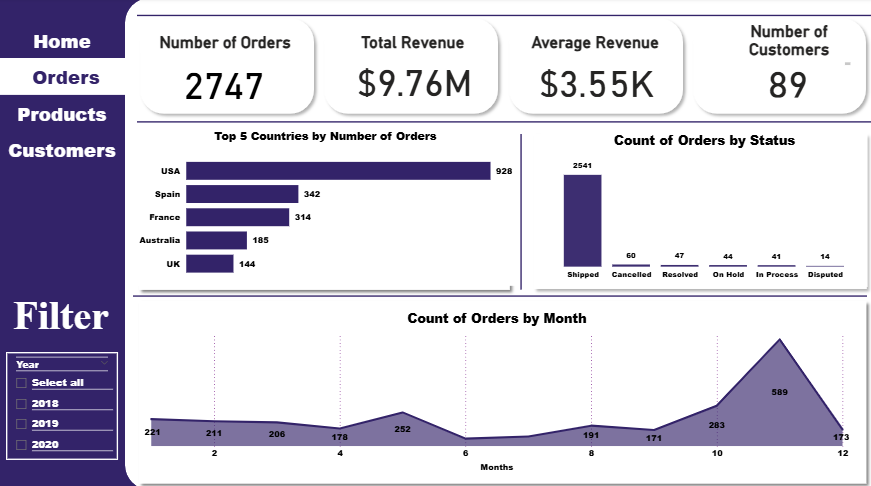

Layout of this report page (visuals, bound fields, positions):
{"tool":"powerbi","page":{"name":"Orders","canvas":[1280,720],"ordinal":1},"visuals":[{"type":"shape","box":[739.9,20.1,272.4,157.9],"z":0,"group":"g1"},{"type":"slicer","fields":{"Values":["Orders.Year"]},"box":[11.7,475.6,144.9,27.8],"z":0},{"type":"shape","box":[1009.2,20.1,270.9,157.9],"z":1000,"group":"g1"},{"type":"actionButton","box":[640,36.3,152.9,52],"z":1000},{"type":"shape","box":[469,20.1,272.4,157.9],"z":2000,"group":"g1"},{"type":"shape","box":[766.1,244.3,290,138.7],"z":2000},{"type":"shape","box":[0,0,989,719.7],"z":3000},{"type":"shape","box":[199.7,20.1,272.4,157.9],"z":3000,"group":"g1"},{"type":"shape","box":[185.7,0,1094.3,719.7],"z":4000},{"type":"textbox","title":"Number of Orders","box":[208.4,50.9,249.2,29.4],"z":4000,"group":"g1"},{"type":"actionButton","box":[1.5,35.1,184.4,54.1],"z":5000},{"type":"actionButton","box":[1.5,87.8,196.1,54.1],"z":6000},{"type":"textbox","title":"Total Revenue","box":[489.1,51.1,249.2,29.4],"z":7000},{"type":"actionButton","box":[1.5,194.6,184.4,54.1],"z":8000},{"type":"actionButton","box":[1.5,141.5,184.4,54.1],"z":9000},{"type":"group","id":"g1","title":"Group 1","box":[199.7,20.1,1080.3,157.9],"z":10000},{"type":"card","fields":{"Values":["Orders.NumberOf Orders"]},"box":[230.6,85.1,198.1,74.3],"z":11000},{"type":"textbox","title":"Total Revenue","box":[489.1,51.1,236.8,29.4],"z":12000},{"type":"textbox","title":"Average Revenue","box":[760,51.1,229.1,29.4],"z":13000},{"type":"textbox","title":"Number of Customers","box":[1061.8,35.6,190.4,68.1],"z":14000},{"type":"card","fields":{"Values":["Orders.Total Revenue"]},"box":[501.5,85.1,215.1,65],"z":15000},{"type":"card","fields":{"Values":["Orders.AVG Sales"]},"box":[778.5,88.2,195,61.9],"z":16000},{"type":"card","fields":{"Values":["Customers.NumberOf Customers"]},"box":[1114.4,91.3,85.1,60.4],"z":17000},{"type":"shape","box":[202.8,37.1,1075.7,289.4],"z":18000},{"type":"shape","box":[775.4,190.4,504.6,244.5],"z":19000},{"type":"clusteredColumnChart","title":"Count of Orders by Status","fields":{"Category":["Orders.Status"],"Y":["CountNonNull(Orders.Status)"]},"box":[794,195,478.3,227.5],"z":20000},{"type":"shape","box":[198.1,434.9,1081.9,284.8],"z":21000},{"type":"stackedAreaChart","title":"Count of Orders   by Month","fields":{"Category":["Orders.Month"],"Y":["CountNonNull(Orders.Order ID)"]},"box":[208.9,455,1041.6,244.5],"z":22000},{"type":"shape","box":[198.1,286.3,1074.1,298.7],"z":23000},{"type":"shape","box":[616,199.7,298.7,227.5],"z":24000},{"type":"shape","box":[198.1,195,560.3,241.5],"z":25000},{"type":"clusteredBarChart","title":"Top 5 Countries by Number of Orders","fields":{"Category":["Customers.Country"],"Y":["CountNonNull(Orders.Order ID)"]},"box":[200.1,190.3,557.5,231.1],"z":26000},{"type":"shape","box":[202.8,0,1077.2,51.1],"z":27000},{"type":"slicer","fields":{"Values":["Orders.Year"]},"box":[11.7,518,163.9,158],"z":27001},{"type":"textbox","box":[10.2,425.9,163.9,115.6],"z":27002}]}

Visuals, with their boxes in screenshot pixels (x1, y1, x2, y2), scaled from the page's 1280x720 canvas onto the 871x486 screenshot:
shape: (503, 14, 689, 120)
slicer - Orders.Year: (8, 321, 107, 340)
shape: (687, 14, 870, 120)
actionButton: (436, 25, 540, 60)
shape: (319, 14, 504, 120)
shape: (521, 165, 719, 259)
shape: (0, 0, 673, 485)
shape: (136, 14, 321, 120)
shape: (126, 0, 870, 485)
"Number of Orders" textbox: (142, 34, 311, 54)
actionButton: (1, 24, 126, 60)
actionButton: (1, 59, 134, 96)
"Total Revenue" textbox: (333, 34, 502, 54)
actionButton: (1, 131, 126, 168)
actionButton: (1, 96, 126, 132)
"Group 1" group: (136, 14, 870, 120)
card - Orders.NumberOf Orders: (157, 57, 292, 108)
"Total Revenue" textbox: (333, 34, 494, 54)
"Average Revenue" textbox: (517, 34, 673, 54)
"Number of Customers" textbox: (723, 24, 852, 70)
card - Orders.Total Revenue: (341, 57, 488, 101)
card - Orders.AVG Sales: (530, 60, 662, 101)
card - Customers.NumberOf Customers: (758, 62, 816, 102)
shape: (138, 25, 870, 220)
shape: (528, 129, 870, 294)
"Count of Orders by Status" clusteredColumnChart: (540, 132, 866, 285)
shape: (135, 294, 870, 485)
"Count of Orders   by Month" stackedAreaChart: (142, 307, 851, 472)
shape: (135, 193, 866, 395)
shape: (419, 135, 622, 288)
shape: (135, 132, 516, 295)
"Top 5 Countries by Number of Orders" clusteredBarChart: (136, 128, 516, 284)
shape: (138, 0, 870, 34)
slicer - Orders.Year: (8, 350, 119, 456)
textbox: (7, 287, 118, 366)
